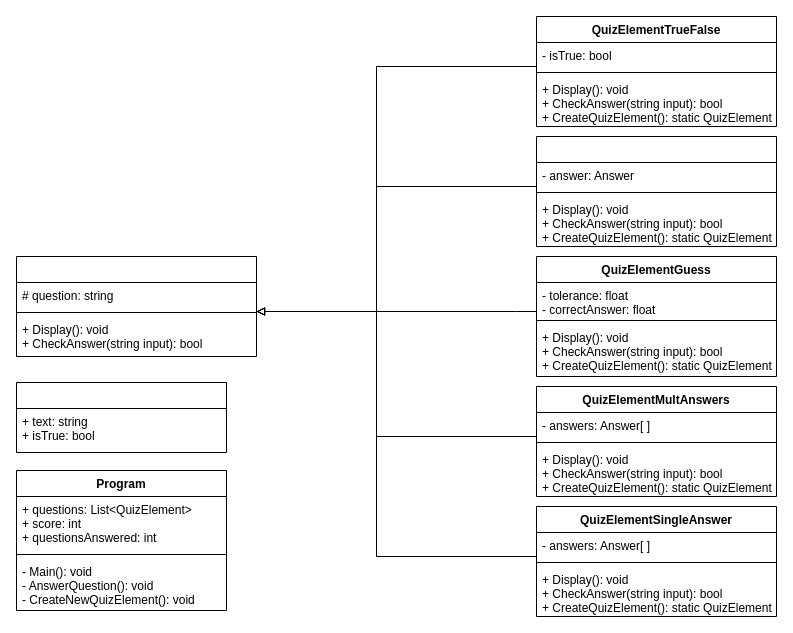
Image size: 793x633. Some labels were removed from this diagram. The box of each missing label's shape, as (x1, y1, x2, y2) in pixels:
Answer: (16, 382, 226, 452)
QuizElement: (16, 256, 256, 356)
QuizElementText: (536, 136, 776, 246)
